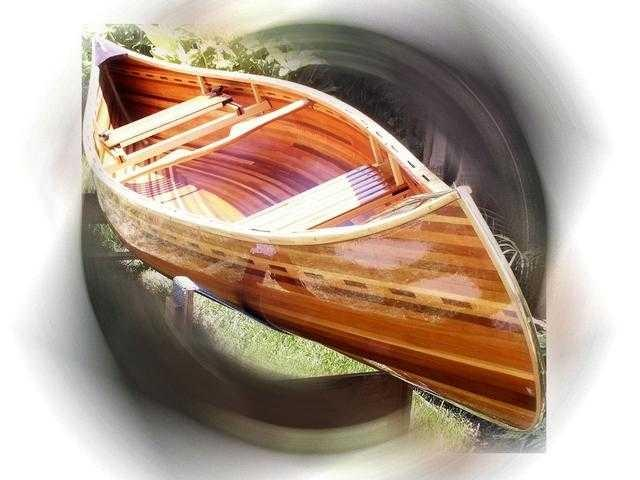kayak: (85, 36, 547, 441)
